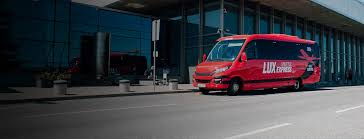bus: (192, 33, 322, 96)
